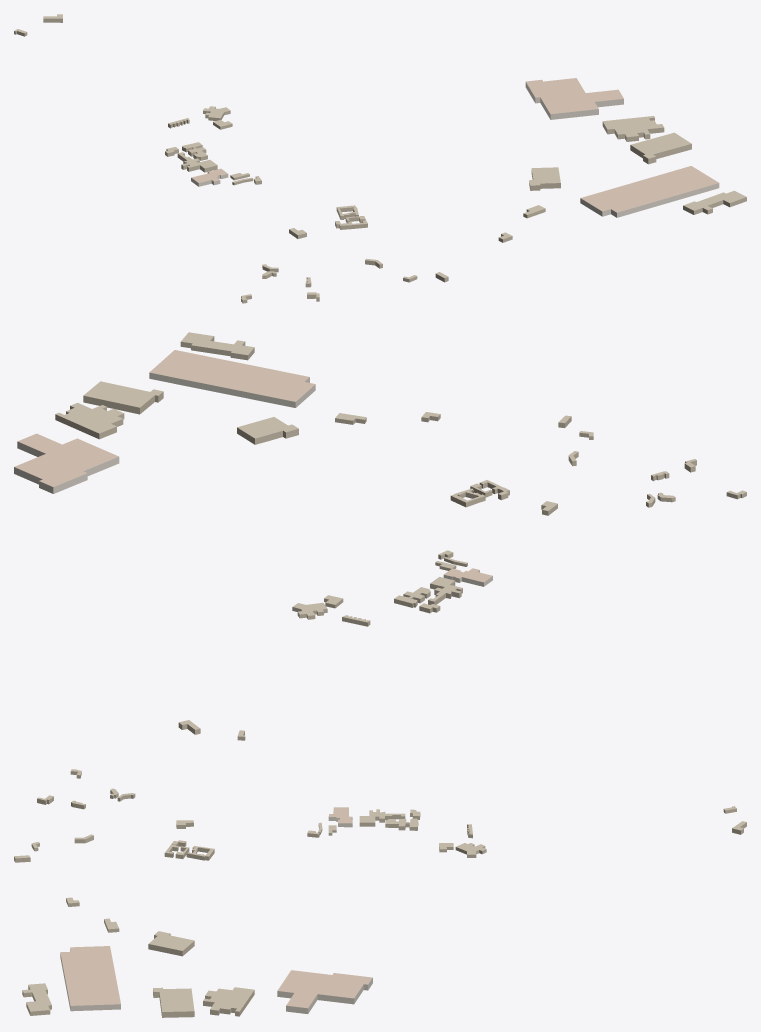
3 views of the same model, one above another, from view 1: azimuth 30°, elevation 25°; view 2: azimuth 150°, elevation 25°; view 3: azimuth 270°, elevation 25° (orthographic). The views are drawn at different scales.
Bounding box in the file's own units: 1296 × 39.83 × 1625.
